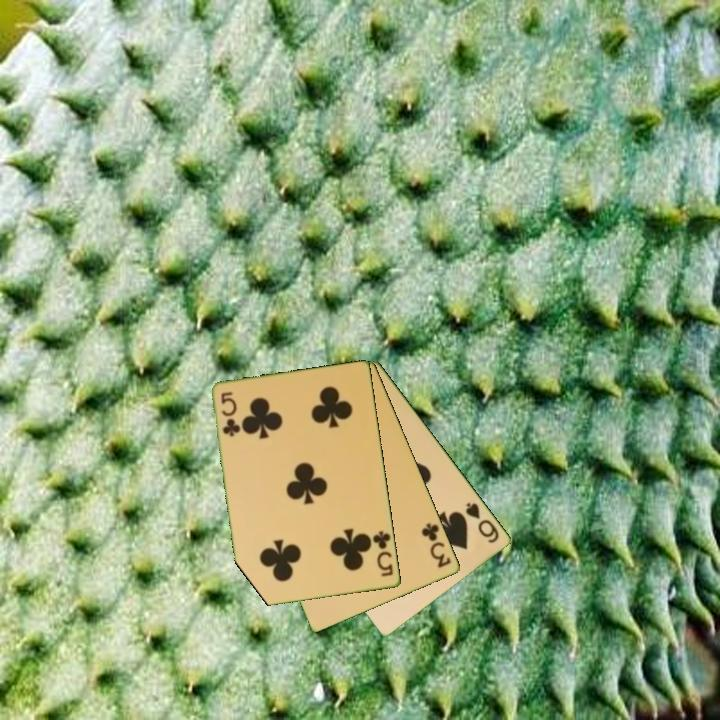3c: (418, 519, 454, 571)
5c: (369, 528, 396, 580), (218, 389, 242, 440)
6s: (462, 499, 502, 546)
